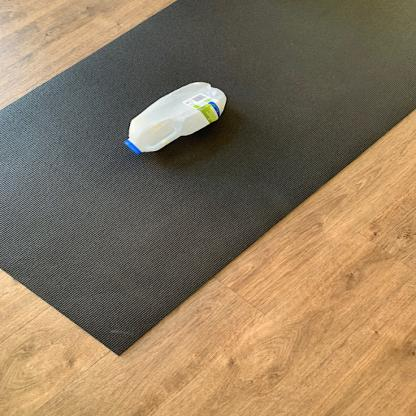trash: (120, 79, 226, 157)
